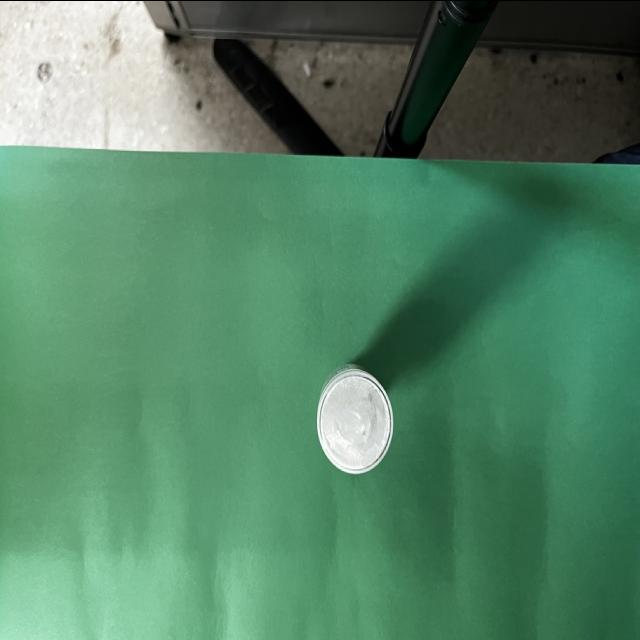Vials: (317, 363, 394, 473)
